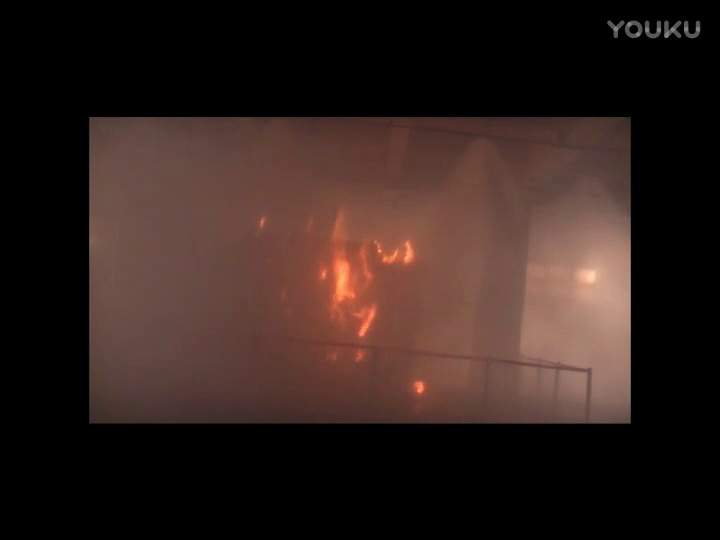fire: (317, 210, 379, 360), (409, 373, 427, 398)
